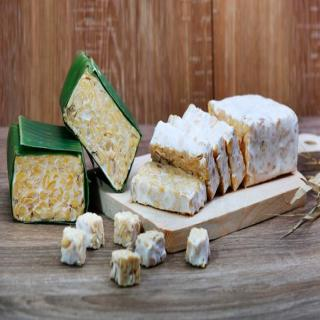Tempe: (60, 51, 143, 193), (7, 116, 90, 224), (110, 248, 141, 288), (136, 230, 167, 267), (77, 212, 106, 250), (185, 227, 211, 269), (61, 226, 87, 268), (114, 211, 142, 248)
